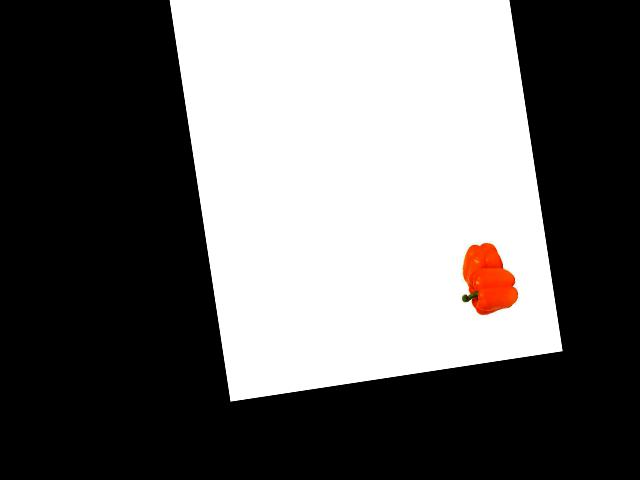bell_pepper: (456, 237, 510, 287)
